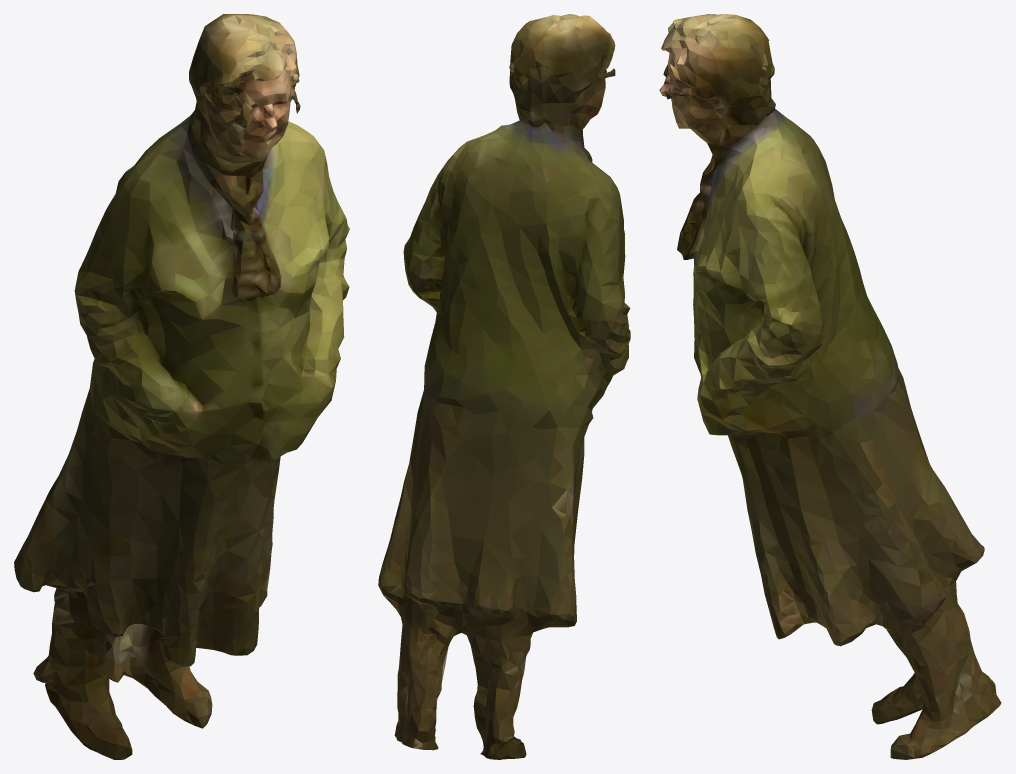
3 renders of one model, left to right at view 1: azimuth 30°, elevation 25°; view 2: azimuth 150°, elevation 25°; view 3: azimuth 270°, elevation 25°, orthographic. The views are drawn at different scales.
Visible parts, largest first — view 1: m.obj; view 2: m.obj; view 3: m.obj.
Part boxes in pixels (left/top/right/bottom): m.obj: left=14, top=14, right=349, bottom=759; m.obj: left=378, top=14, right=630, bottom=759; m.obj: left=659, top=14, right=1001, bottom=759.
Size of the model in its own units: 0.5423 by 1.55 by 0.668.
1 material, 1 textured.
